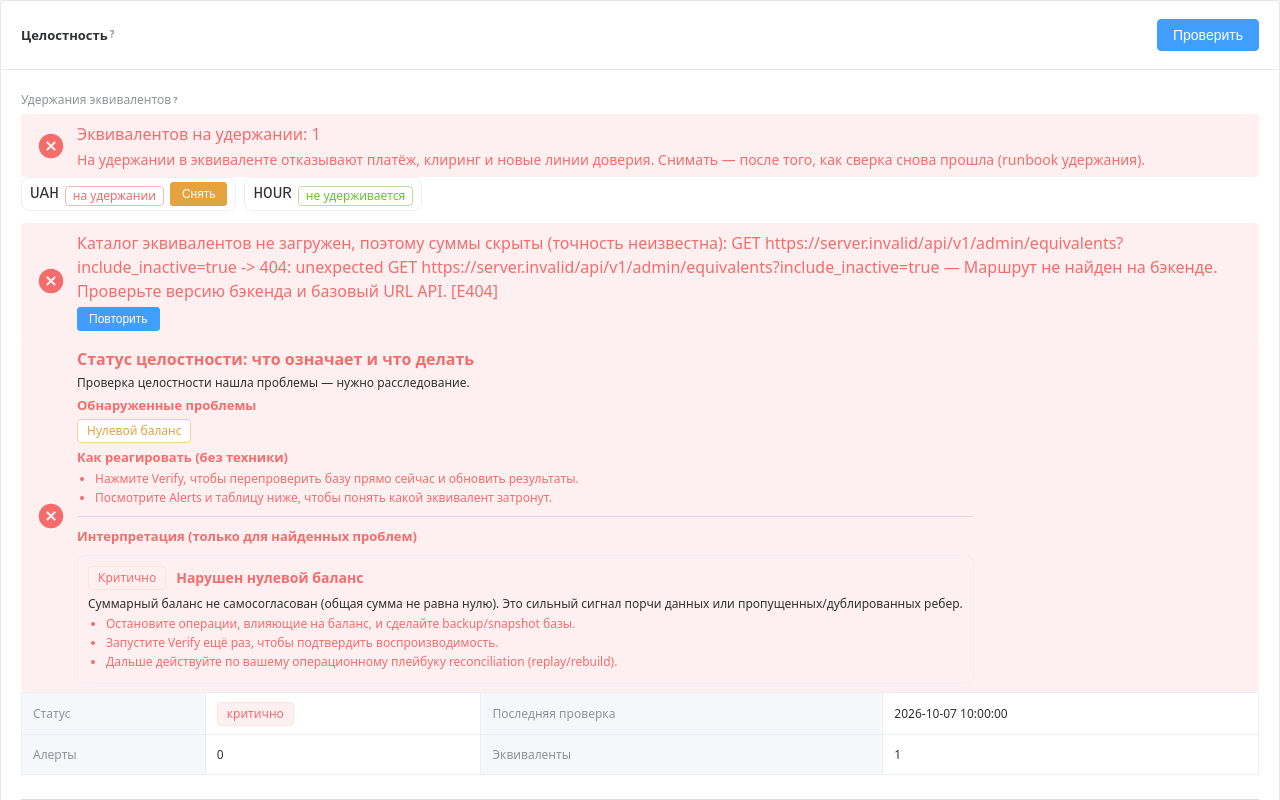
Test case: Integrity screen: after a clear the status is read again (033 B, item 1) › drops the critical verdict of the equivalent whose hold was cleared
Check: the text "критично" is shown, box [227,705,284,722]
What coordinates should you click on to do the following:
click the button "Снять"
I would click on:
 (199, 194)
Its box is [170,182,227,206].
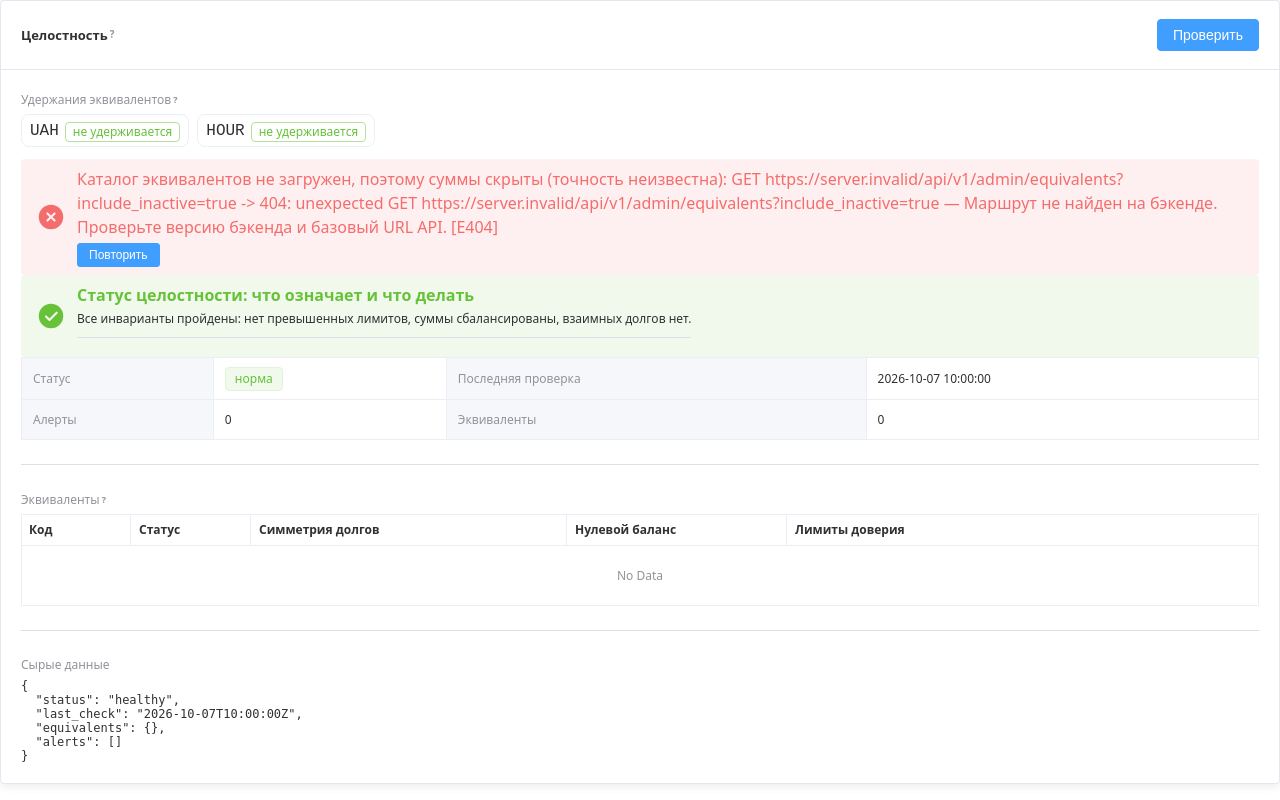
Check: the text "Критично" is gone
